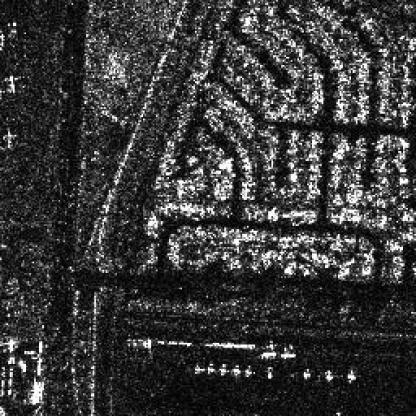airplane: (5, 18, 23, 32), (263, 364, 275, 379), (242, 364, 255, 377), (346, 369, 358, 382), (322, 368, 334, 380), (301, 367, 312, 379), (218, 362, 228, 374), (0, 31, 6, 49), (231, 362, 240, 374), (206, 361, 214, 372), (193, 366, 203, 372)
